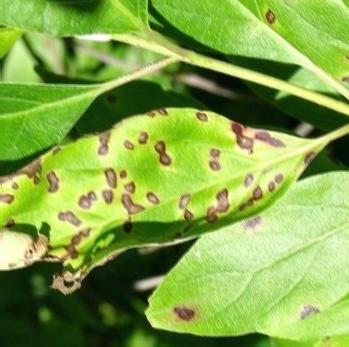Tomato leaf bacterial spot: (0, 99, 332, 313), (129, 172, 349, 347)
